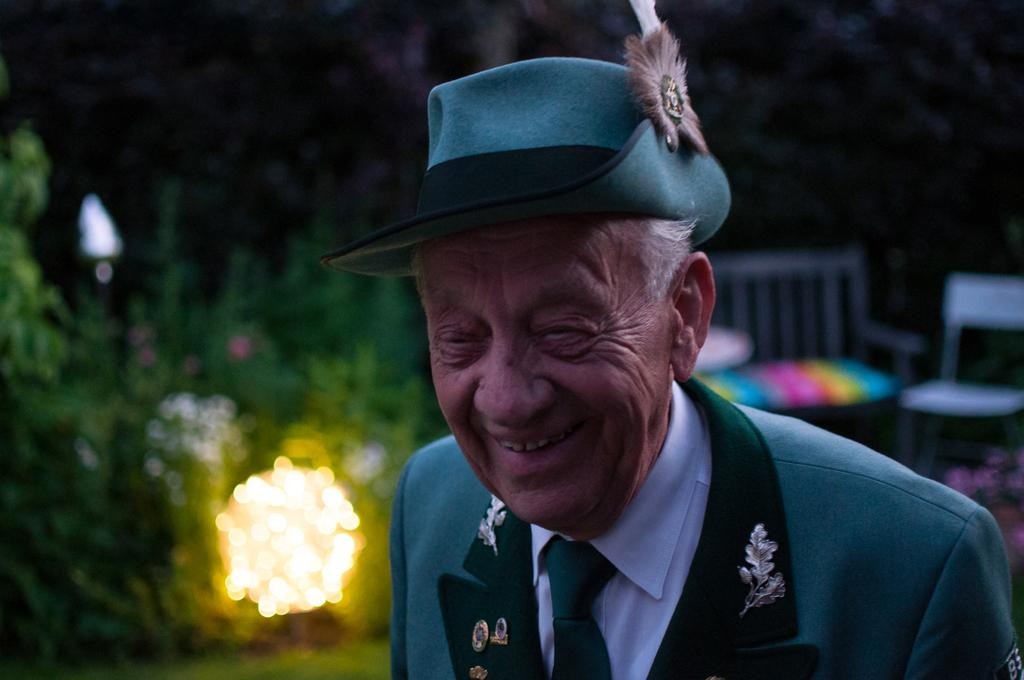Hat: (326, 0, 732, 282)
